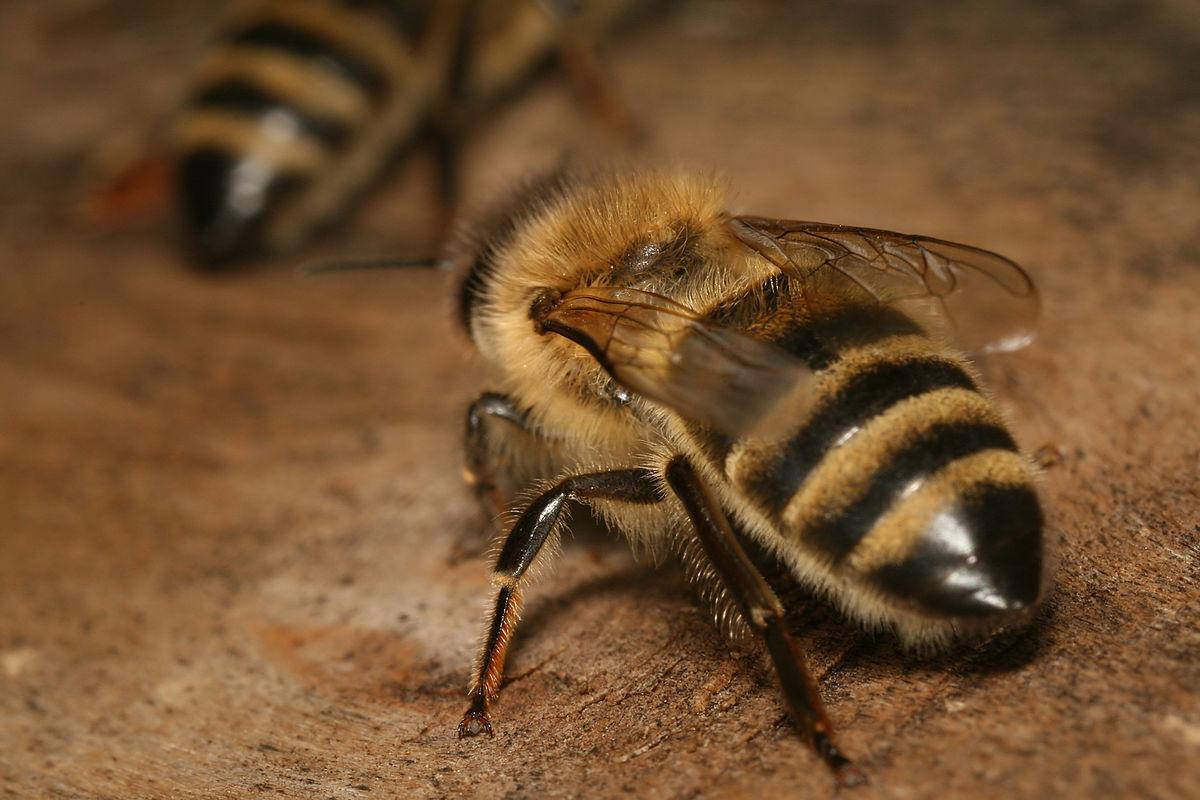worker-bee: (458, 171, 1046, 776)
